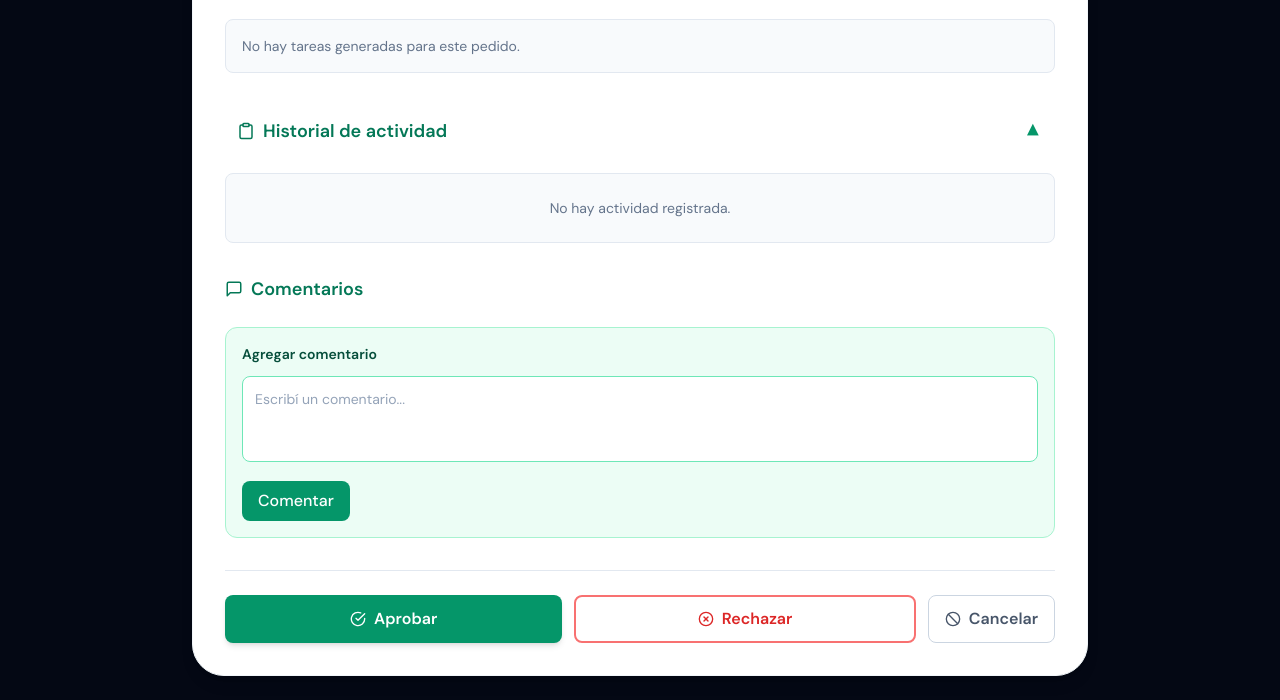
Scenario: PedidoDetalle — aprobar, rechazar y cancelar › muestra el error si no se puede aprobar
(page scrolled)
Click the button "Aprobar": (394, 619) x1=225 y1=595 x2=562 y2=643
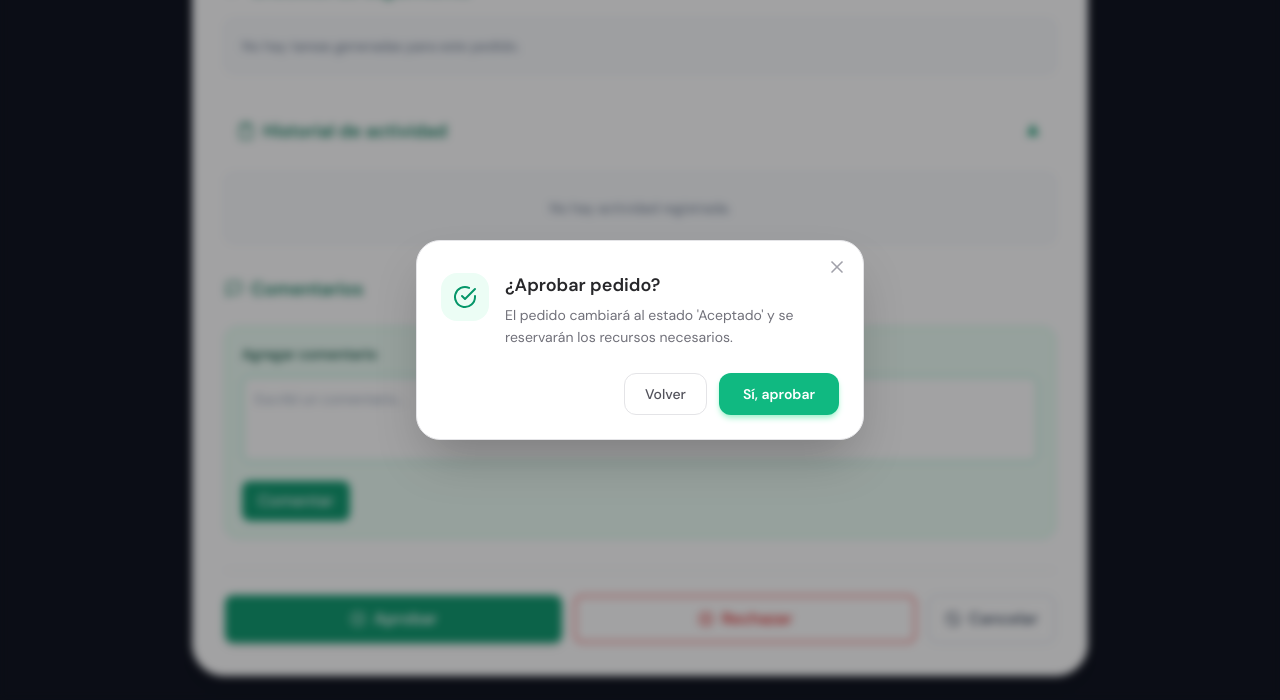
Click the button "Sí, aprobar": (779, 394) x1=719 y1=373 x2=839 y2=415
(page scrolled)
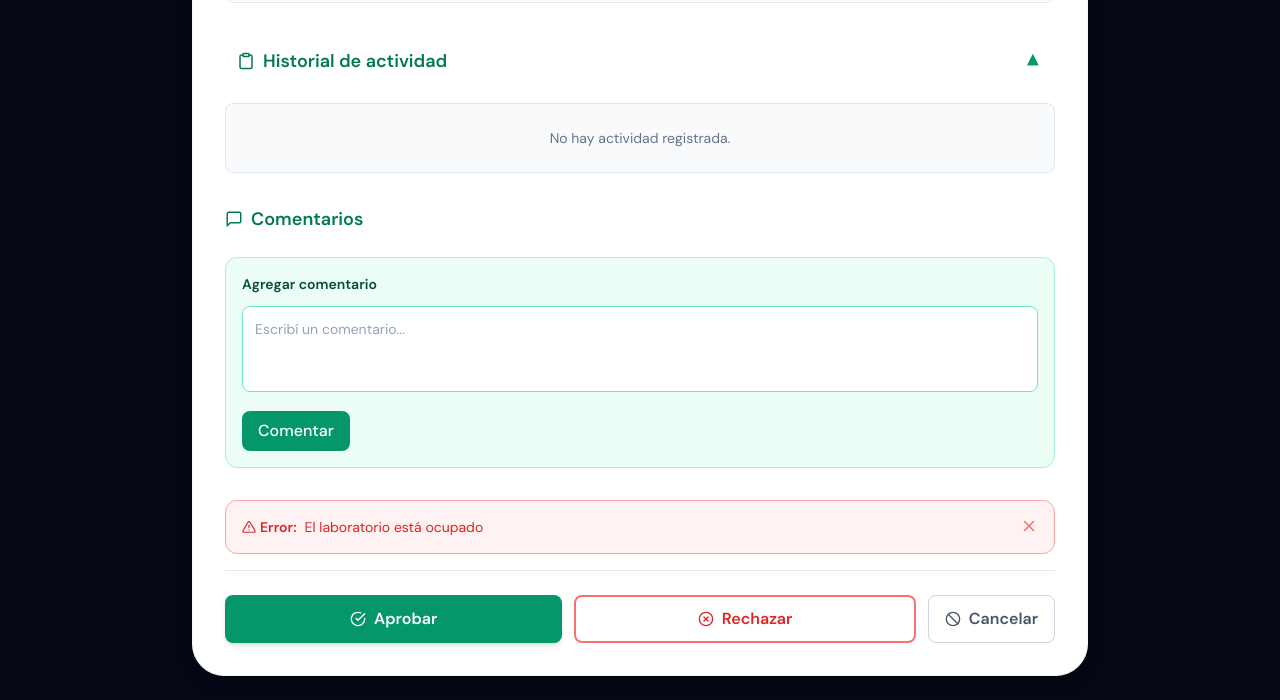
Check: the text "El laboratorio está ocupado" is shown, box x1=305 y1=518 x2=483 y2=536
